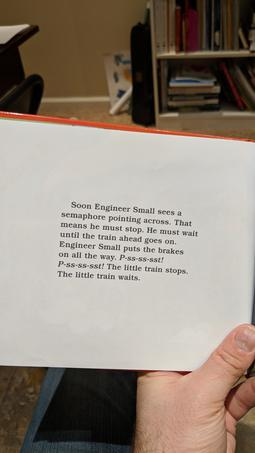text block: (49, 183, 208, 289)
